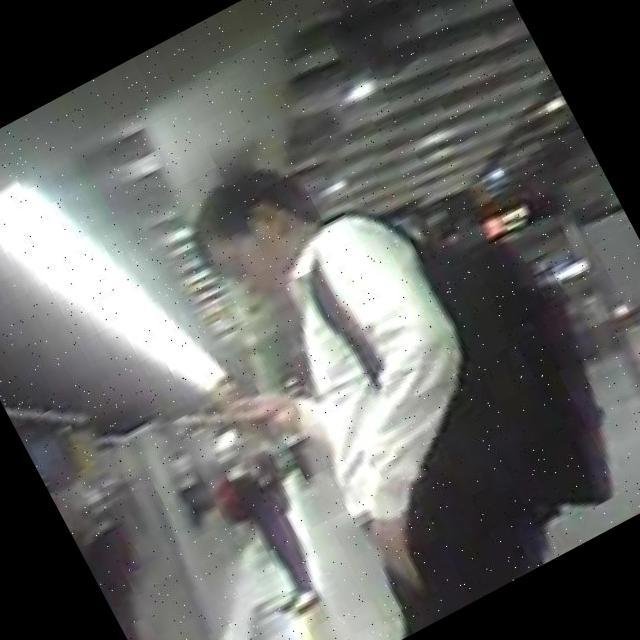person: (141, 112, 578, 640), (172, 370, 348, 621)
